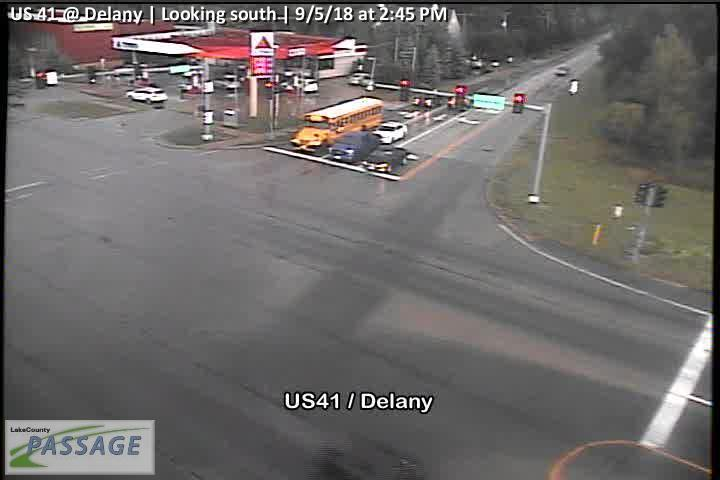Bus: (289, 94, 384, 153)
SUV: (326, 130, 379, 162), (127, 85, 169, 106), (279, 75, 319, 95)
Sedan: (362, 144, 411, 174), (375, 120, 408, 144), (413, 89, 444, 107), (211, 74, 243, 91), (349, 73, 369, 85), (554, 64, 572, 76)
